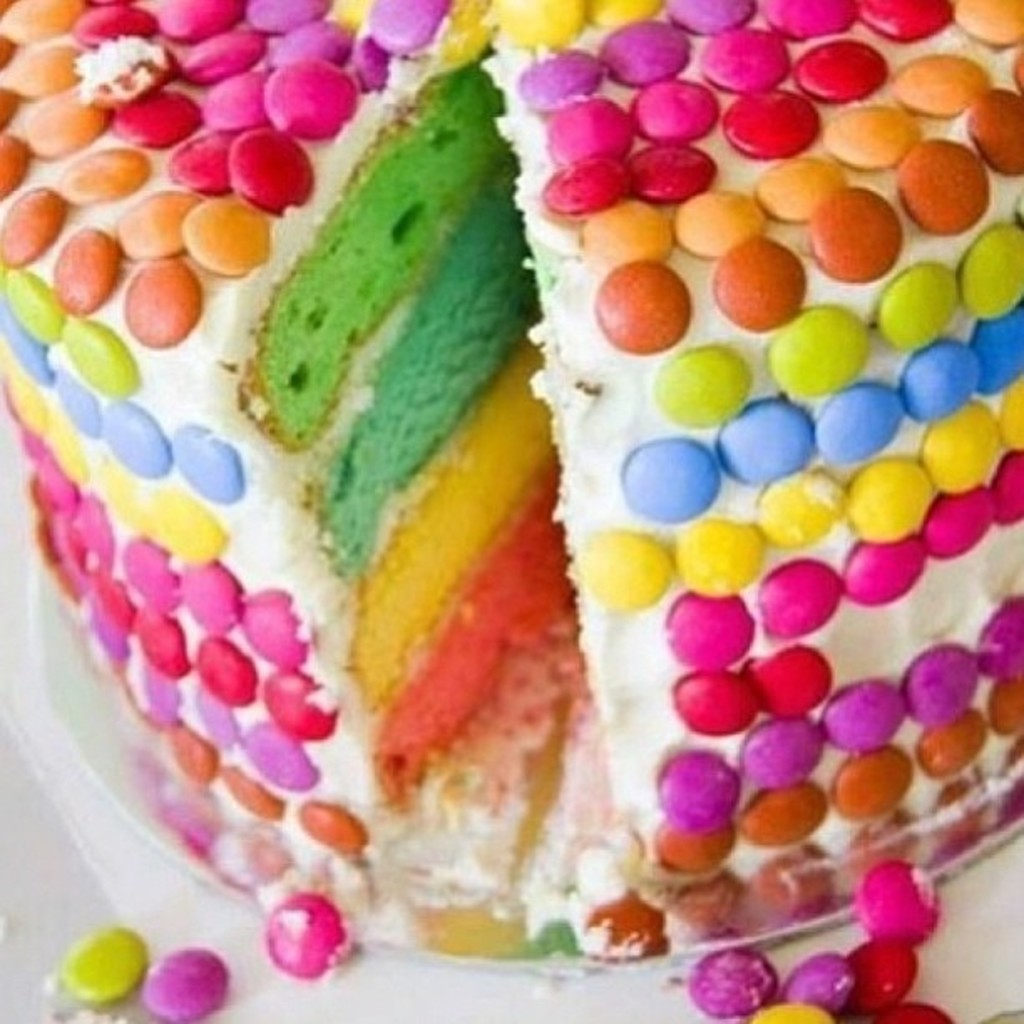cake: (0, 0, 1022, 959)
